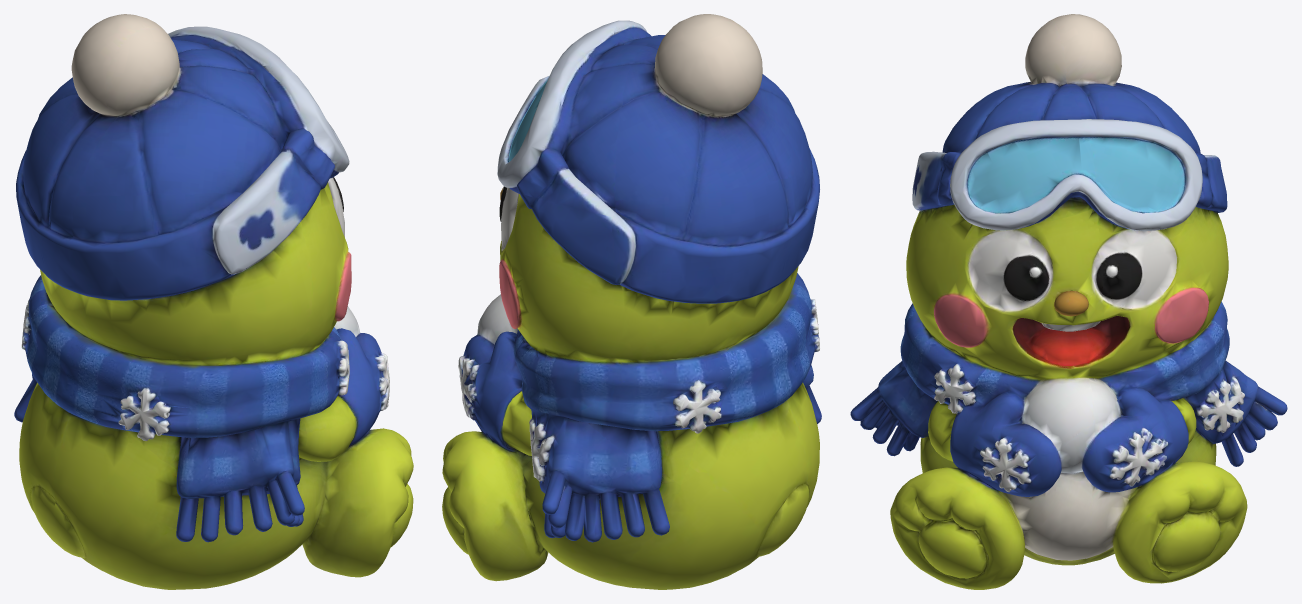
Rendered from ski-plush.glb.
3 renders of one model, left to right at view 1: azimuth 30°, elevation 25°; view 2: azimuth 150°, elevation 25°; view 3: azimuth 270°, elevation 25°, orthographic. The views are drawn at different scales.
Parts seen in each view (by area): view 1: tripo_node_557c4f54-876b-4c87-bbd3-dc6fa394e094; view 2: tripo_node_557c4f54-876b-4c87-bbd3-dc6fa394e094; view 3: tripo_node_557c4f54-876b-4c87-bbd3-dc6fa394e094.
Boxes of the visible parts, <box> form: tripo_node_557c4f54-876b-4c87-bbd3-dc6fa394e094: <box>14,14,413,589</box>; tripo_node_557c4f54-876b-4c87-bbd3-dc6fa394e094: <box>442,14,821,589</box>; tripo_node_557c4f54-876b-4c87-bbd3-dc6fa394e094: <box>850,14,1287,589</box>.
Bounding box in the file's own units: 0.6177 × 0.9999 × 0.8021.
1 material, 1 textured.
